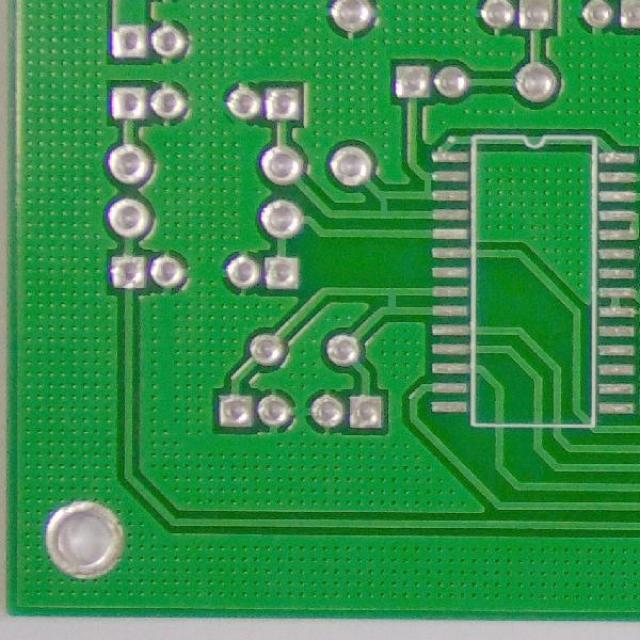Short_Circuit: (380, 282, 406, 319), (416, 161, 435, 208), (373, 186, 394, 223)
